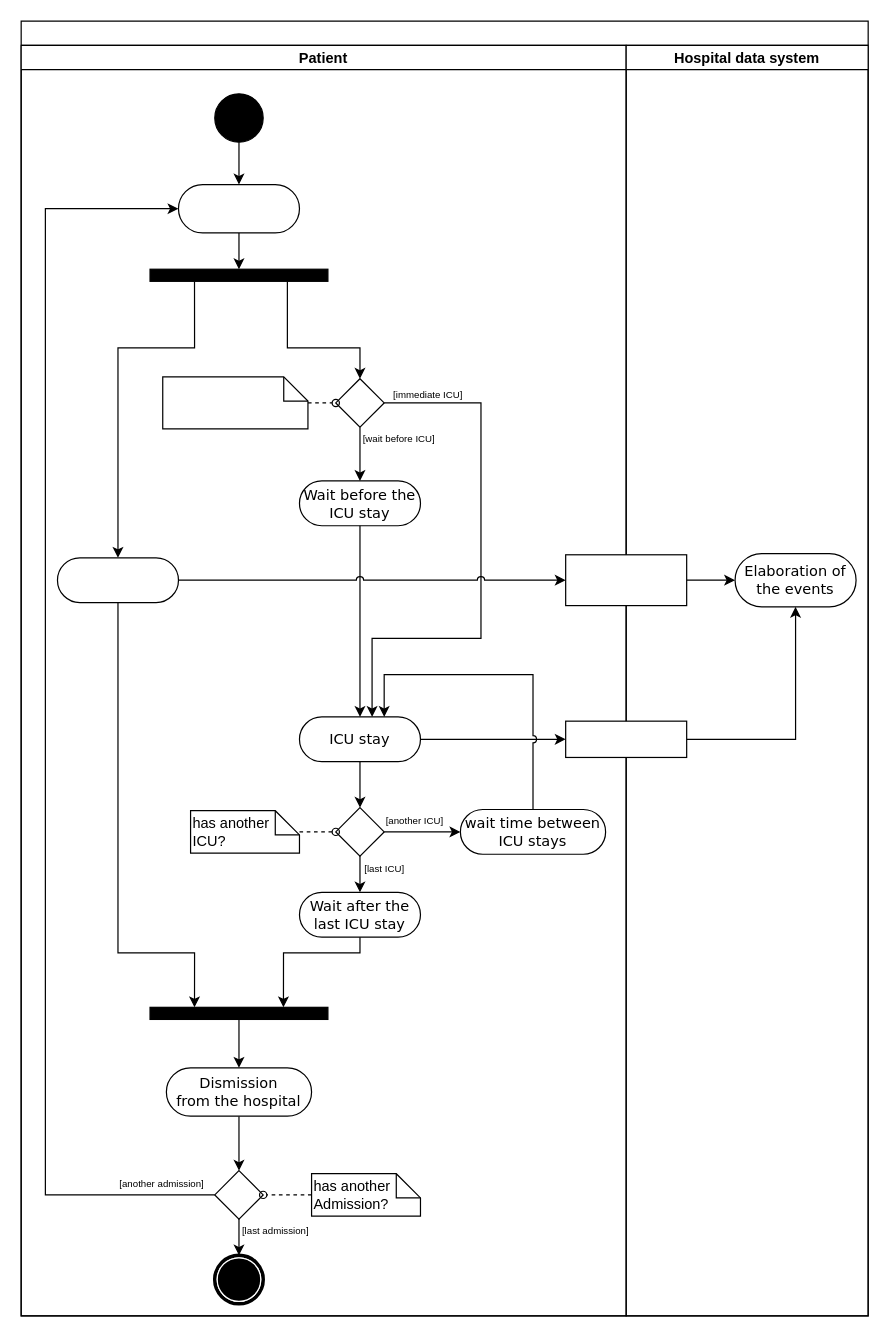
The diagram is 889 pixels wide and 1337 high, and some of its shapes have lost their labels. The centre of each missing label's shape, as x and y in pixels:
Admission to the hospital: the point at 238,208
goes immediately in ICU?: the point at 235,402
Hospital Stay: the point at 117,580
Hospital stay events: the point at 625,580
ICU stay Events: the point at 625,738
